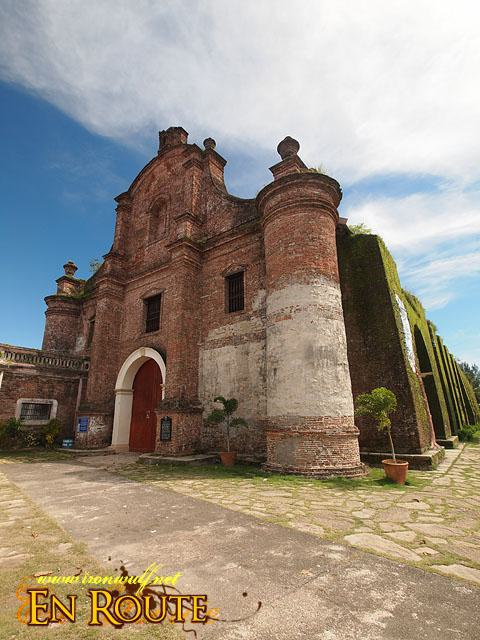santa_maria_church_santa_maria_ilocos_sur: (35, 118, 365, 485)
unfinished_paint: (189, 278, 359, 436)
water_damage_or_mold: (378, 248, 403, 297), (374, 310, 398, 356), (408, 304, 429, 329)
